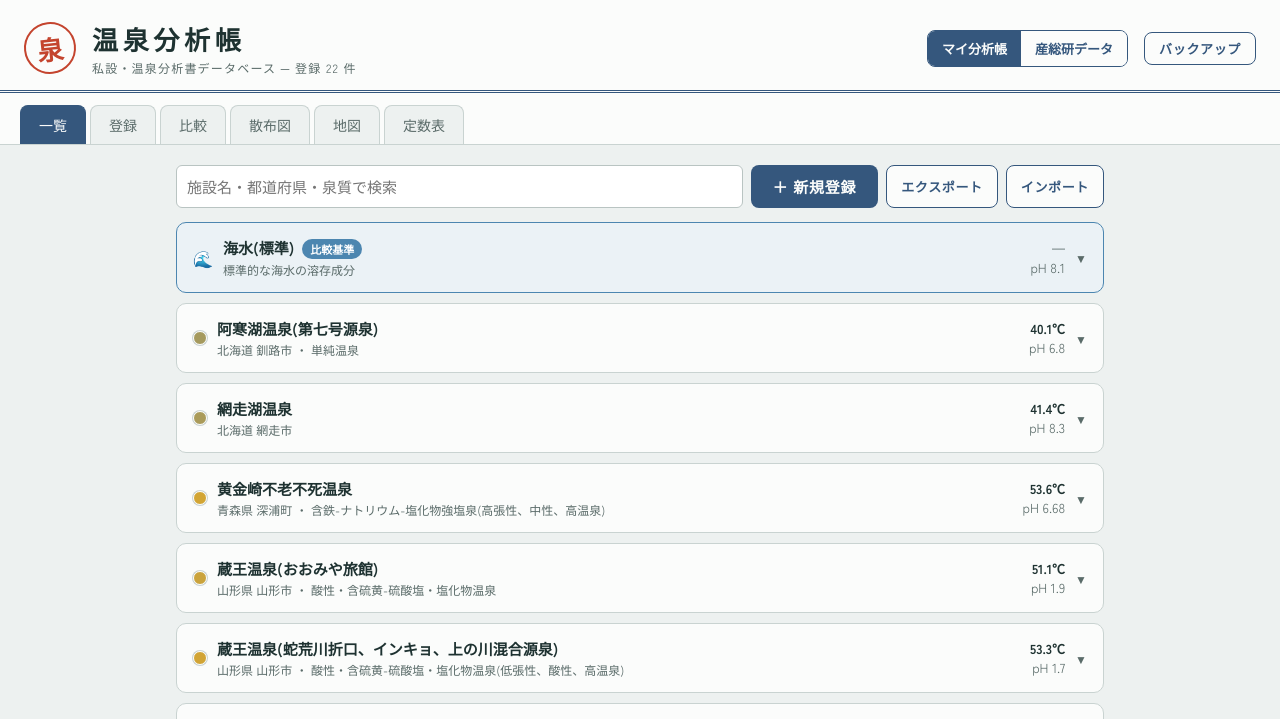
Test: 産総研データモード › 編集・削除・新規登録のUIが無い(閲覧専用)
Click the button "産総研データ": (1074, 48) [1021,30,1127,66]
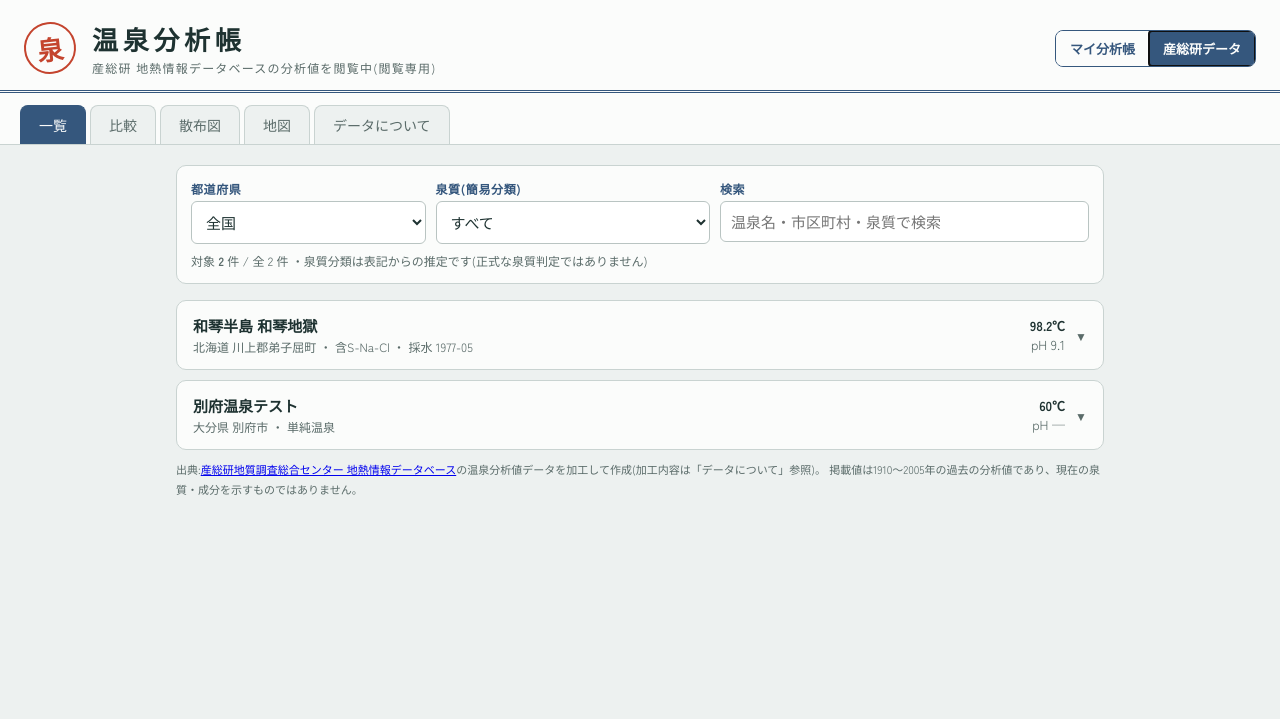
Expected: the text "和琴半島 和琴地獄" is shown
Click the text "和琴半島 和琴地獄": (255, 326) [193,315,317,336]
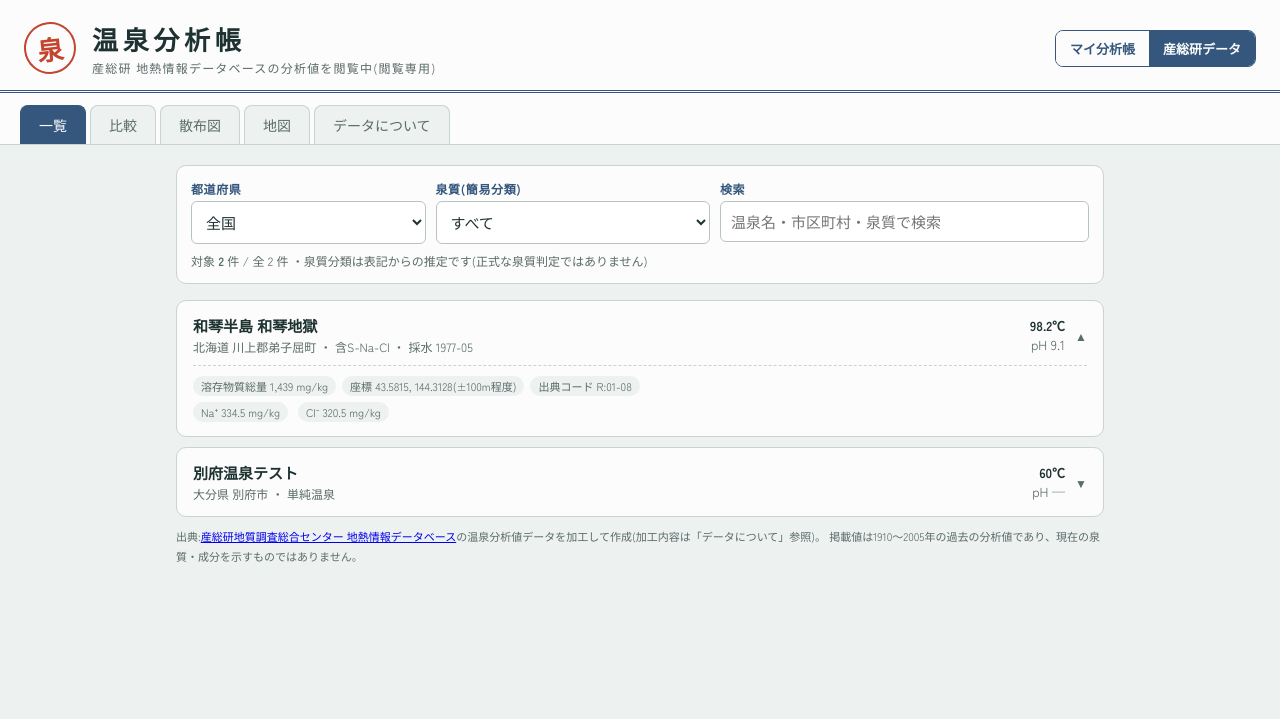
Expected: the button "＋ 新規登録" is not shown
Expected: the text "出典コード R:01-08" is shown, [530,376,640,396]
Expected: the text "Na⁺ 334.5 mg/kg" is shown, [193,402,288,422]
